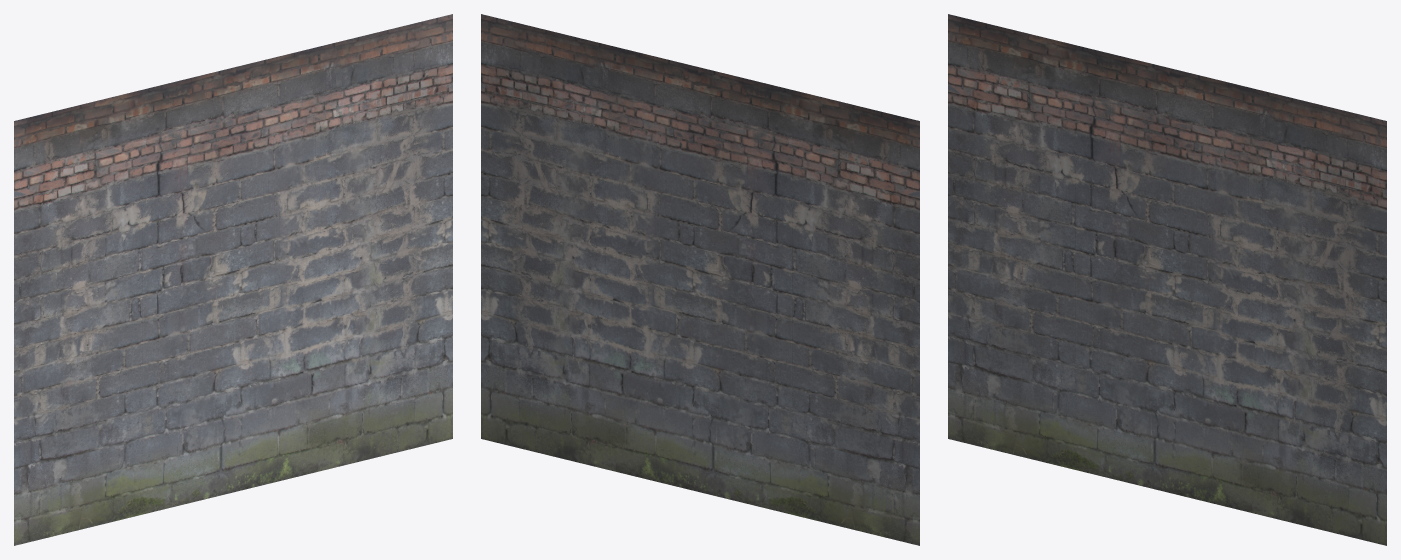
Rendered from sm_Wall_06_06.fbx.
3 views of the same model, side by side, from view 1: azimuth 30°, elevation 25°; view 2: azimuth 150°, elevation 25°; view 3: azimuth 330°, elevation 25° (orthographic).
Visible parts, largest first — view 1: sm_Wall_06_06_LOD0; view 2: sm_Wall_06_06_LOD0; view 3: sm_Wall_06_06_LOD0.
Boxes of the visible parts, left/top/right/bottom form: sm_Wall_06_06_LOD0: left=14, top=14, right=452, bottom=545; sm_Wall_06_06_LOD0: left=481, top=14, right=919, bottom=545; sm_Wall_06_06_LOD0: left=948, top=14, right=1386, bottom=545.
Bounding box in the file's own units: 0.612 × 400 × 370.
